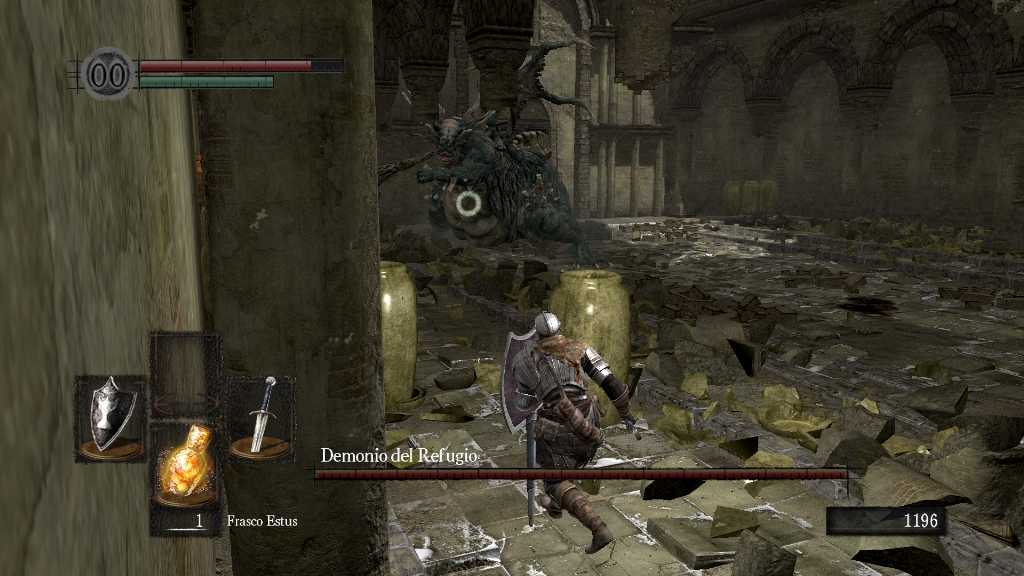asylumDemon: (401, 34, 595, 264)
bossHP: (314, 469, 847, 479)
health: (138, 58, 343, 71)
humanity: (80, 45, 136, 102)
player: (500, 310, 644, 558)
souls: (825, 506, 945, 536)
stamina: (138, 74, 274, 88)
